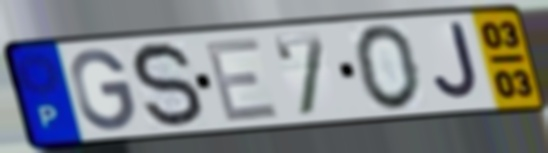7: (270, 30, 328, 118)
E: (201, 34, 284, 125)
G: (67, 46, 138, 134)
J: (430, 20, 483, 104)
O: (352, 22, 424, 113)
S: (128, 39, 207, 133)
